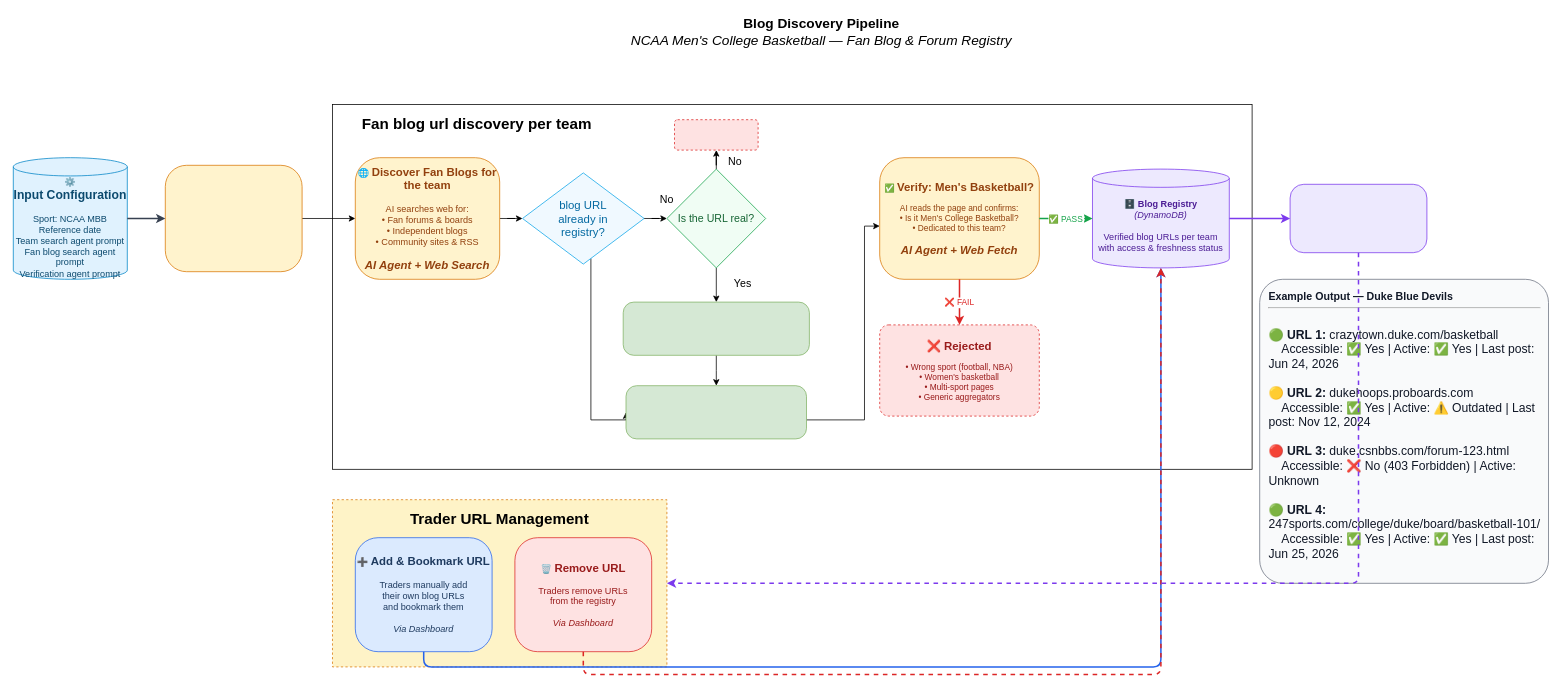
Some shapes in this 1562 by 694 pixel diagram are drawn without their labels. The centre of each missing label's shape, as x and y in pixels:
"Accessibility status check (200 OK vs others)" belongs at point 715,328.
"Active/Outdated status check Get last post date" belongs at point 716,412.
"❌ Rejected" belongs at point 716,134.
"📊 Dashboard Visual web app for traders to browse results by team" belongs at point 1358,218.
"🔍 Find All Teams 365 NCAA Division 1 teams by conference AI Agent + Web Search" belongs at point 233,218.
